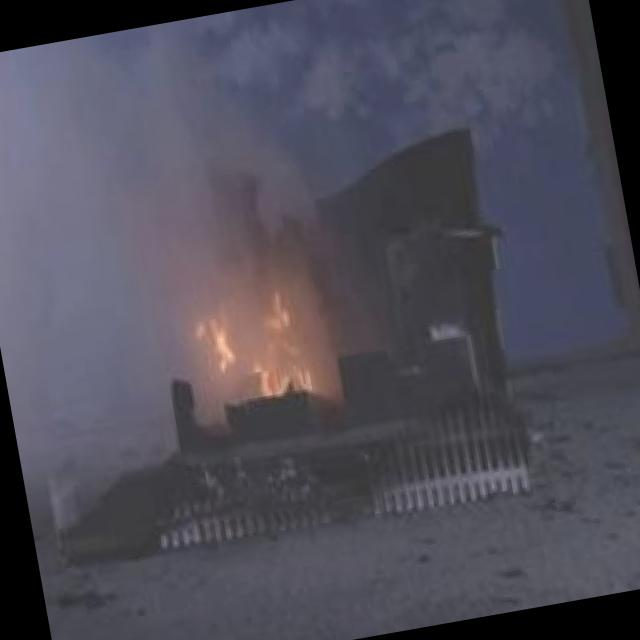fire: (180, 245, 348, 420)
smoke: (0, 26, 187, 308)
